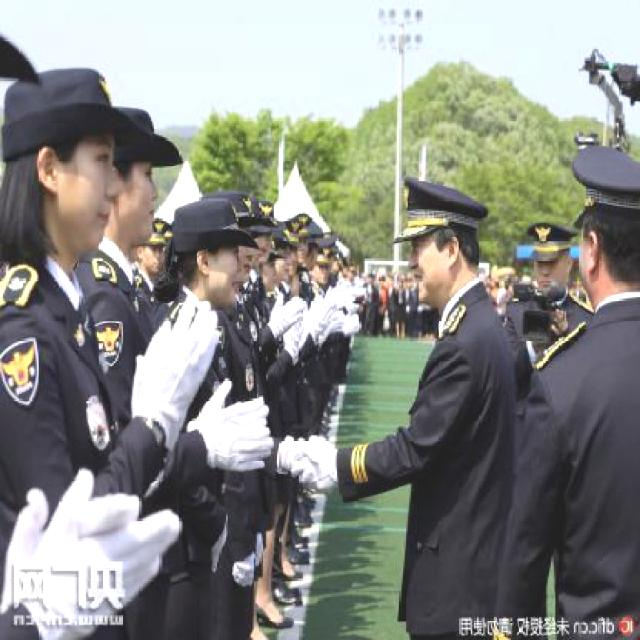face_nomask: (65, 151, 122, 252), (119, 158, 168, 248), (400, 236, 458, 304), (202, 244, 246, 298), (536, 252, 566, 291)
hand_glove: (15, 471, 183, 629), (134, 297, 220, 420), (192, 403, 272, 479), (191, 377, 275, 449), (292, 432, 340, 491), (269, 292, 303, 337), (283, 310, 311, 356), (308, 297, 335, 334), (323, 284, 348, 304), (334, 314, 361, 332), (346, 285, 360, 312)
hand_noglove: (550, 306, 568, 336)
head_nohelmet: (6, 60, 120, 154), (396, 179, 487, 241), (108, 99, 175, 168), (168, 202, 246, 258)
person: (0, 78, 216, 633), (312, 184, 514, 622), (171, 203, 366, 517)
